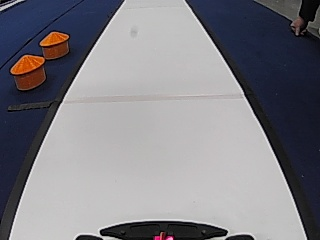granary: (9, 52, 45, 89), (38, 29, 69, 58)
